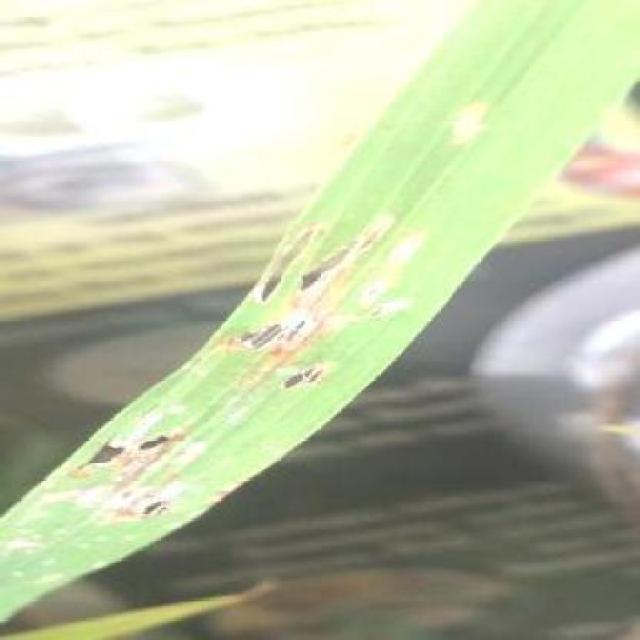Bacterial_Leaf_Blight: (260, 214, 391, 303), (88, 463, 192, 568), (81, 378, 185, 482), (226, 300, 326, 358), (254, 352, 337, 408)
